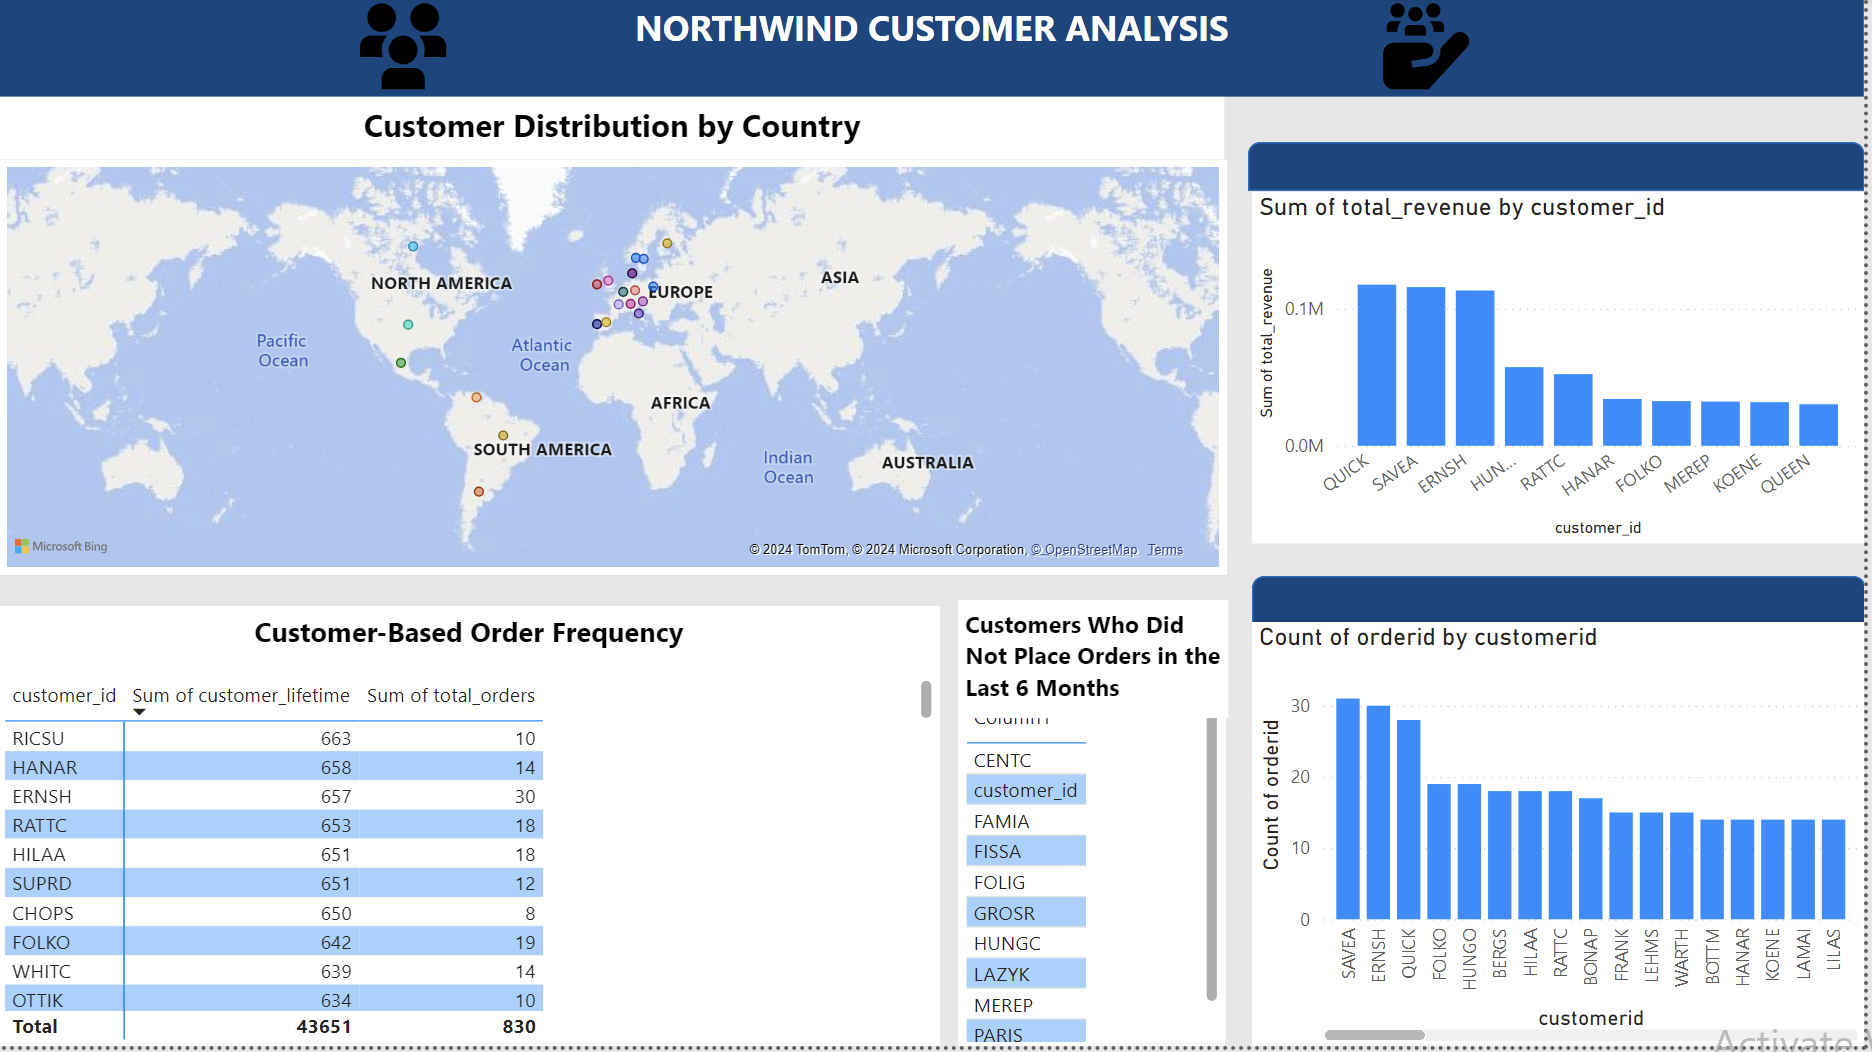

What the dashboard file says about the page in this screenshot:
{"tool":"powerbi","page":{"name":"customer","canvas":[1280,720],"ordinal":1},"visuals":[{"type":"shape","box":[859.3,397,420.7,33.6],"z":0},{"type":"shape","box":[859.3,428.6,422.7,292.3],"z":1000},{"type":"lineStackedColumnComboChart","fields":{"Category":["customers.customerid"],"Y":["CountNonNull(orders.orderid)"]},"box":[859.3,428.6,420.7,292.3],"z":2000},{"type":"shape","box":[857.3,100.7,422.7,33.6],"z":3000},{"type":"lineClusteredColumnComboChart","fields":{"Category":["Top 10 Customers by Total Revenue.customer_id"],"Y":["Sum(Top 10 Customers by Total Revenue.total_revenue)"]},"box":[859.3,134.3,420.7,241],"z":4000},{"type":"actionButton","box":[0,0,100,40],"z":5000},{"type":"map","fields":{"Category":["Customer Distribution by Country.country"],"Series":["Customer Distribution by Country.totalorders"]},"box":[2,112.6,841.5,284.4],"z":6000},{"type":"textbox","box":[2,69.1,839.5,43.5],"z":7000},{"type":"tableEx","fields":{"Values":["Customers Who Did Not Place Orders in the Last 6 Months.Column1"]},"box":[657.8,478,183.7,243],"z":8000},{"type":"textbox","box":[657.8,414.8,185.7,81],"z":9000},{"type":"pivotTable","fields":{"Rows":["Customer-Based Order Frequency.customer_id"],"Values":["Sum(Customer-Based Order Frequency.customer_lifetime)","Sum(Customer-Based Order Frequency.total_orders)"]},"box":[0,464.2,645.9,256.8],"z":10000},{"type":"textbox","box":[0,418.8,645.9,45.4],"z":11000},{"type":"textbox","box":[2,0,1278,69.1],"z":12000},{"type":"image","box":[886.9,0,183.7,69.1],"z":13000},{"type":"image","box":[167.9,0,221.2,69.1],"z":14000}]}

Visuals, with their boxes in screenshot pixels (x1, y1, x2, y2), scaled from the page's 1280x720 canvas onto the 1872x1052 screenshot:
shape: [x1=1257, y1=580, x2=1871, y2=629]
shape: [x1=1257, y1=626, x2=1871, y2=1051]
lineStackedColumnComboChart - customers.customerid x CountNonNull(orders.orderid): [x1=1257, y1=626, x2=1871, y2=1051]
shape: [x1=1254, y1=147, x2=1871, y2=196]
lineClusteredColumnComboChart - Top 10 Customers by Total Revenue.customer_id x Sum(Top 10 Customers by Total Revenue.total_revenue): [x1=1257, y1=196, x2=1871, y2=548]
actionButton: [x1=0, y1=0, x2=146, y2=58]
map - Customer Distribution by Country.country x Customer Distribution by Country.totalorders: [x1=3, y1=165, x2=1234, y2=580]
textbox: [x1=3, y1=101, x2=1231, y2=165]
tableEx - Customers Who Did Not Place Orders in the Last 6 Months.Column1: [x1=962, y1=698, x2=1231, y2=1051]
textbox: [x1=962, y1=606, x2=1234, y2=724]
pivotTable - Customer-Based Order Frequency.customer_id x Sum(Customer-Based Order Frequency.customer_lifetime): [x1=0, y1=678, x2=945, y2=1051]
textbox: [x1=0, y1=612, x2=945, y2=678]
textbox: [x1=3, y1=0, x2=1871, y2=101]
image: [x1=1297, y1=0, x2=1566, y2=101]
image: [x1=246, y1=0, x2=569, y2=101]
